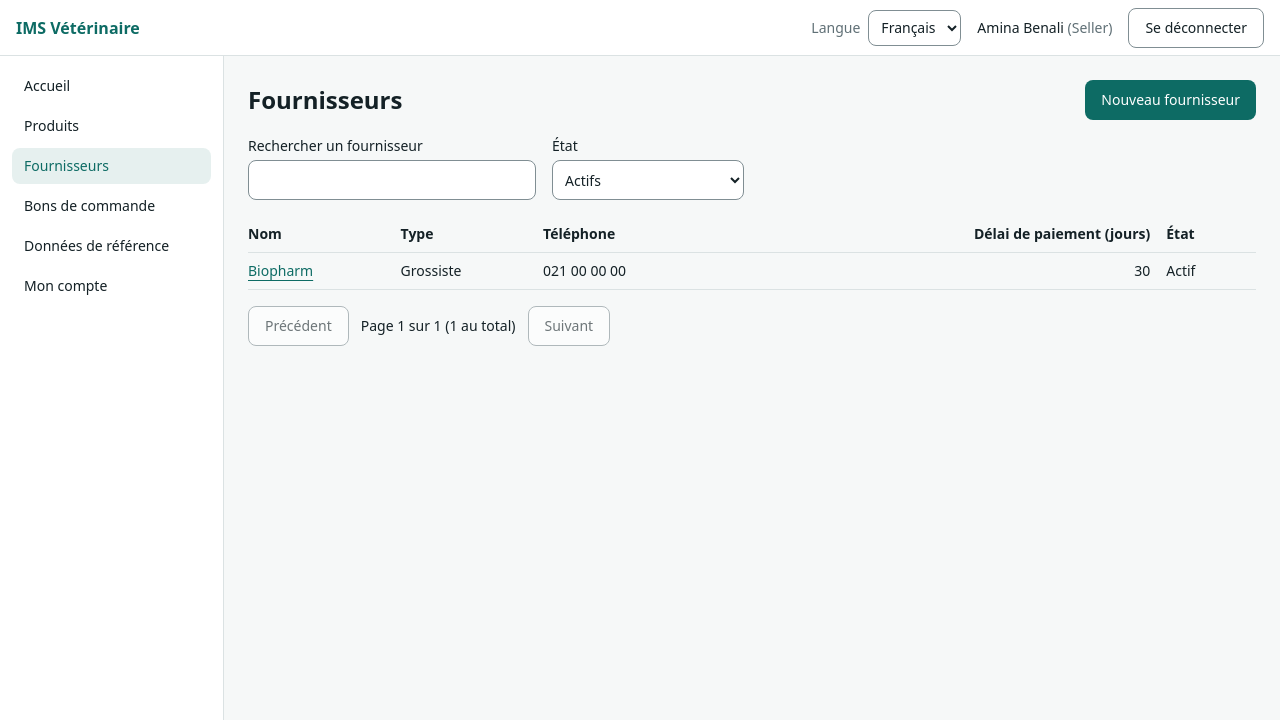
suppliers (frontend.md §4.5) › lists the active suppliers and shows a duplicate name on the name field
Click the link "Nouveau fournisseur" at (1171, 100), box [1085, 80, 1256, 120]
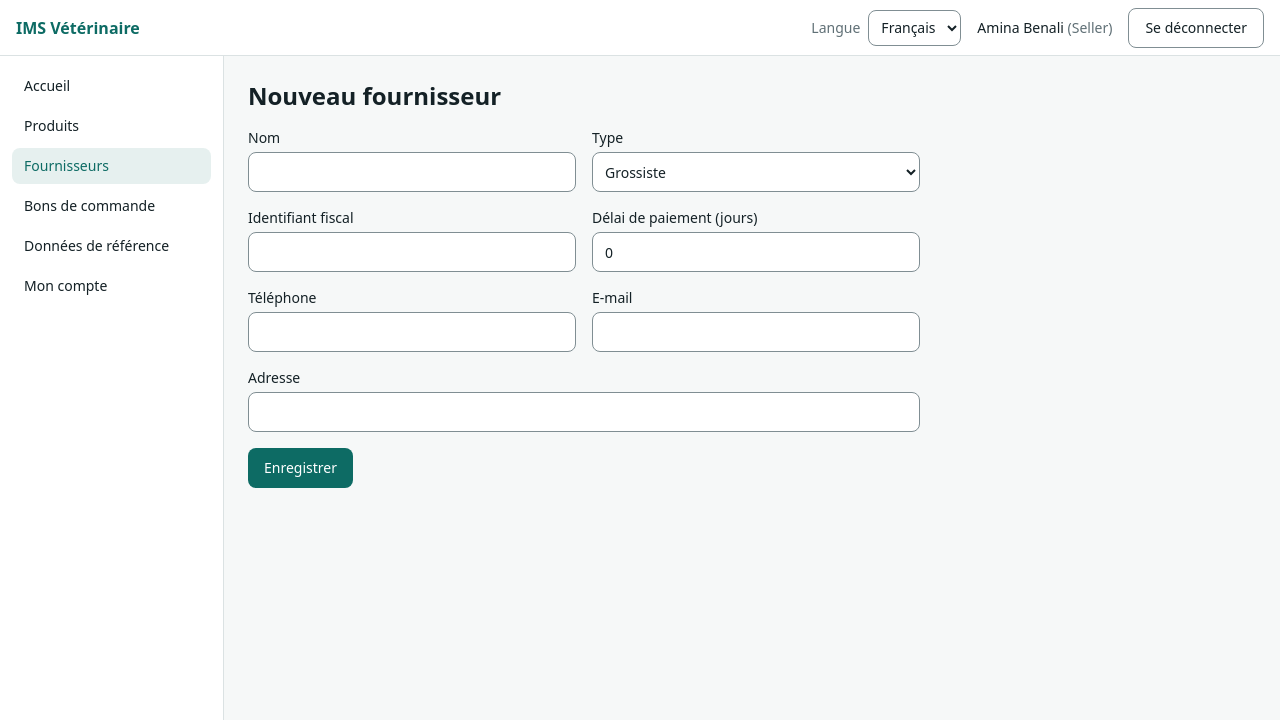
Type "biopharm" into the field labelled "Nom" at (412, 172), box [248, 152, 576, 192]
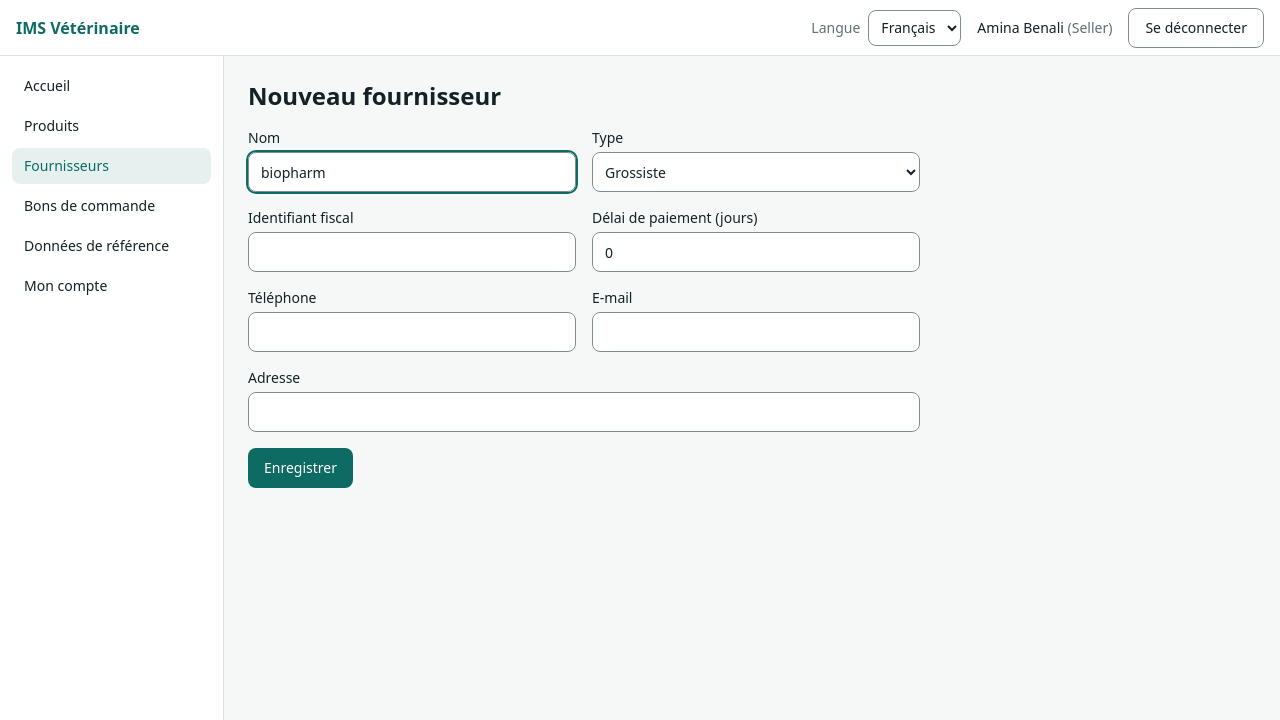
Click the button "Enregistrer" at (300, 468), box [248, 448, 353, 488]
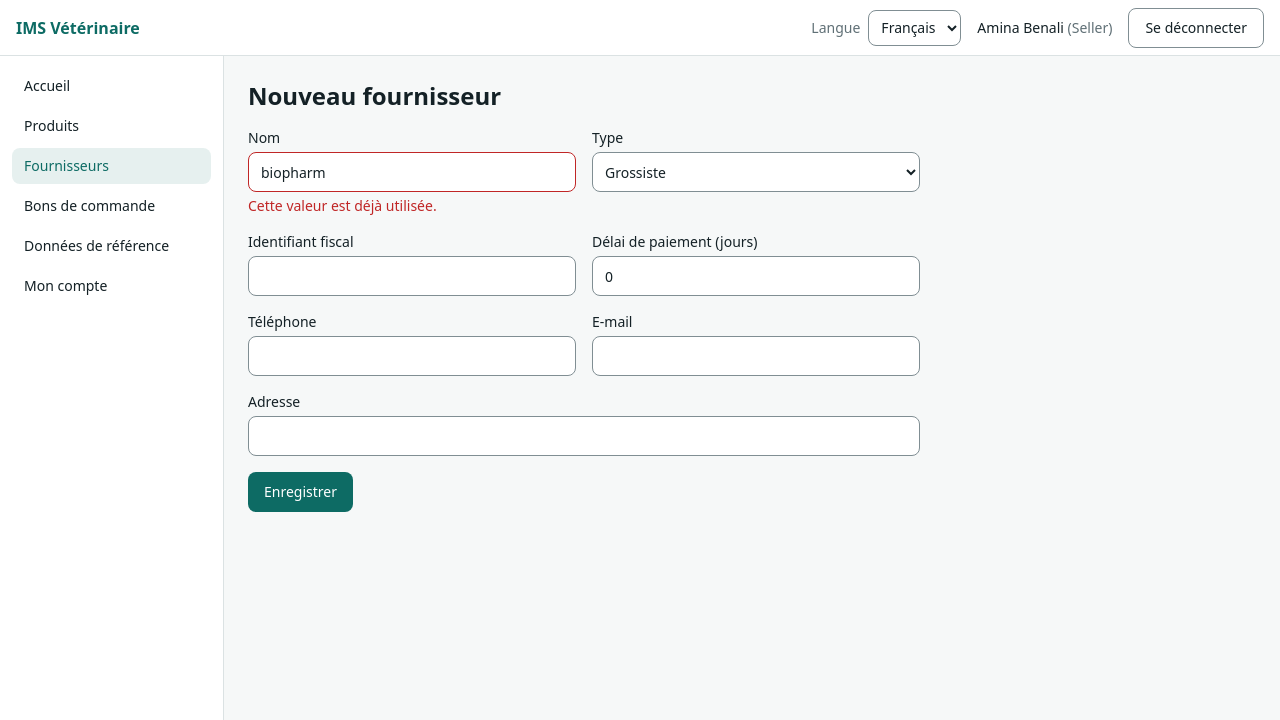
Expected: the text "Cette valeur est déjà utilisée." is shown, [248, 196, 437, 215]
